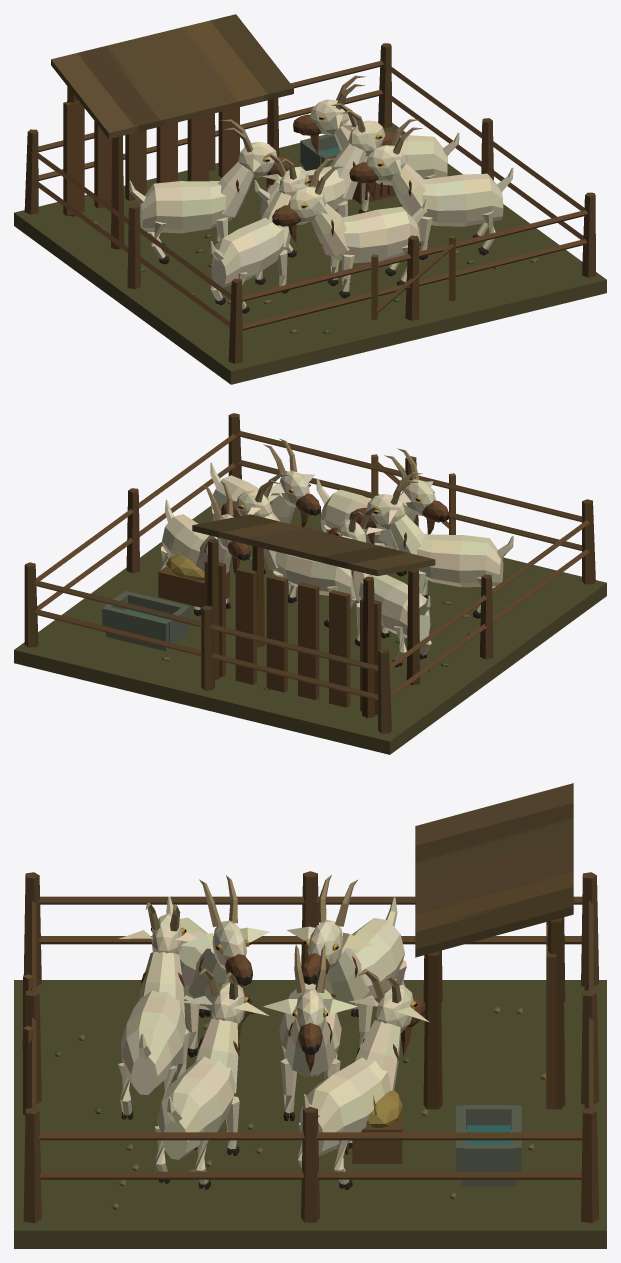
The model's file is elevage_chevre_grand.glb.
3 views of the same model, one above another, from view 1: azimuth 30°, elevation 25°; view 2: azimuth 150°, elevation 25°; view 3: azimuth 270°, elevation 25° (orthographic). The views are drawn at different scales.
Parts seen in each view (by area): view 1: Enclos_grand, Chevre_02, Chevre_04, Chevre_03, Chevre_01, Chevre_05, Chevre_00; view 2: Enclos_grand, Chevre_01, Chevre_03, Chevre_00, Chevre_04, Chevre_05, Chevre_02; view 3: Enclos_grand, Chevre_02, Chevre_04, Chevre_05, Chevre_03, Chevre_00, Chevre_01.
Boxes of the visible parts, x1,y1,x2,y2 form: Enclos_grand: (14,14,606,384); Chevre_02: (349,119,513,259); Chevre_04: (272,158,427,298); Chevre_03: (129,119,294,264); Chevre_01: (210,153,319,313); Chevre_05: (293,75,459,213); Chevre_00: (254,103,394,257); Enclos_grand: (14,413,606,754); Chevre_01: (349,472,513,618); Chevre_03: (328,506,431,667); Chevre_00: (221,473,356,627); Chevre_04: (316,448,449,576); Chevre_05: (160,481,250,615); Chevre_02: (210,438,320,573); Enclos_grand: (14,783,606,1248); Chevre_02: (155,968,268,1189); Chevre_04: (118,902,197,1119); Chevre_05: (297,969,429,1189); Chevre_03: (287,875,406,1054); Chevre_00: (263,944,357,1121); Chevre_01: (166,875,269,1057).
Bounding box in the file's own units: 0.532 × 0.2293 × 0.532.
